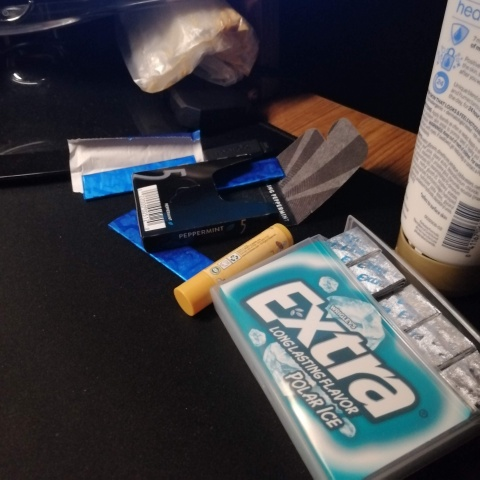chapstick: (174, 220, 295, 318)
